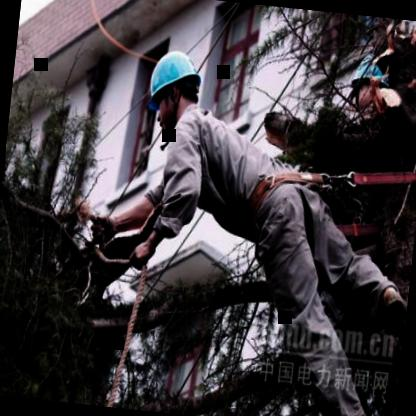helmet: (146, 44, 209, 134)
